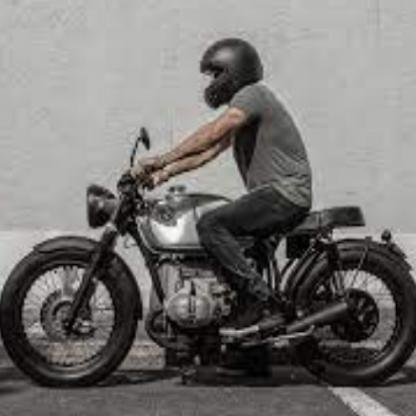helmet: (199, 37, 265, 110)
